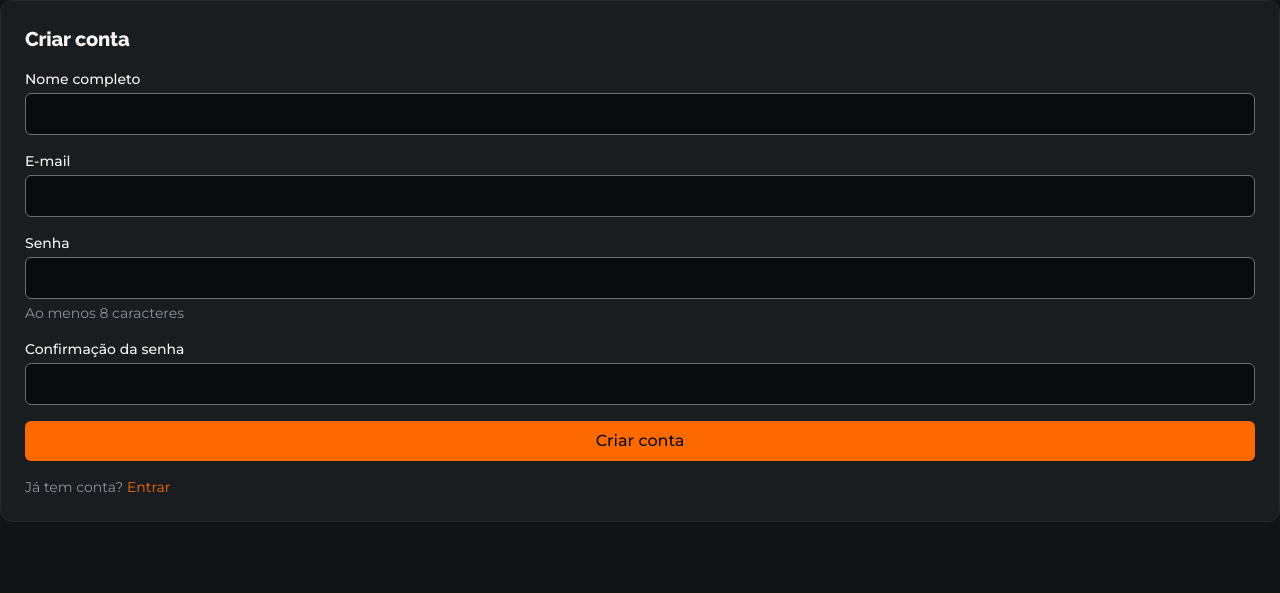
Test case: Cadastro › preserva o que foi digitado quando o serviço recusa
In the field labelled "Nome completo": (640, 114) [25,93,1255,135], type "Joana Silva"
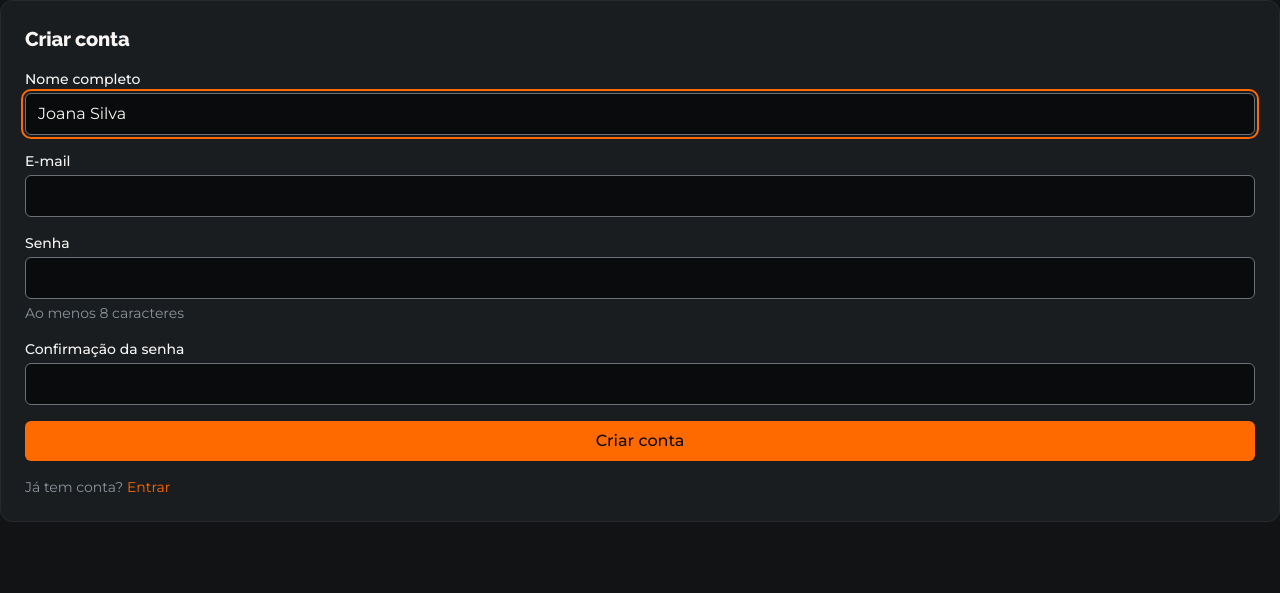
In the field labelled "E-mail": (640, 196) [25,175,1255,217], type "joana@exemplo.com"
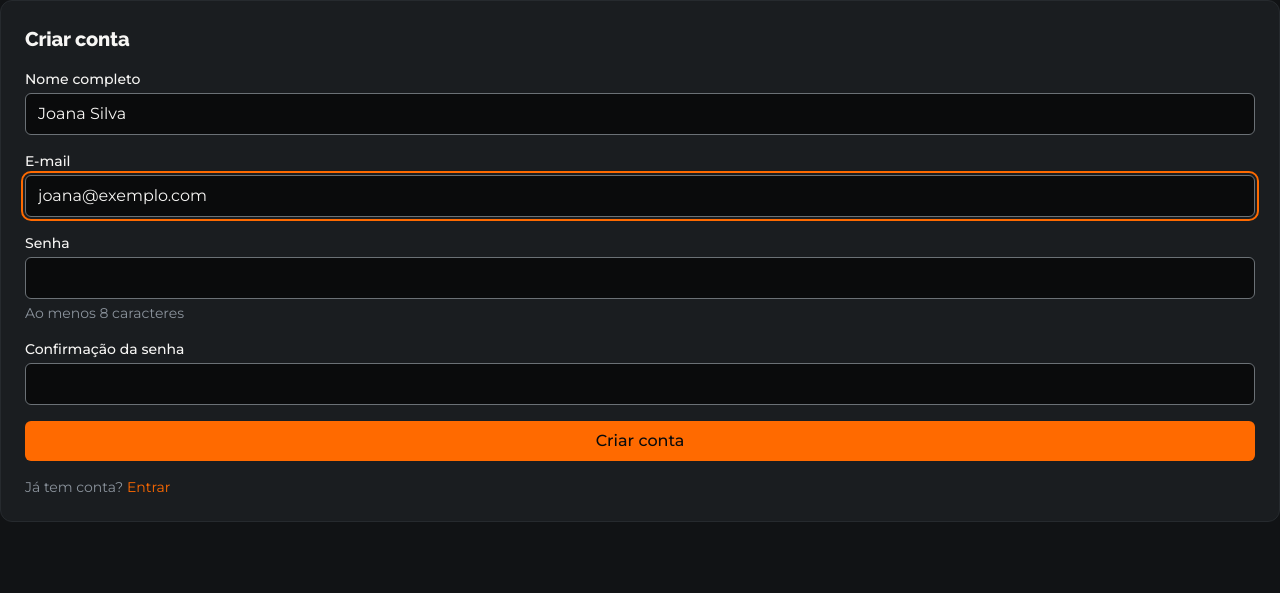
In the password field labelled "Senha": (640, 278) [25,257,1255,299], type "senha-valida-123"
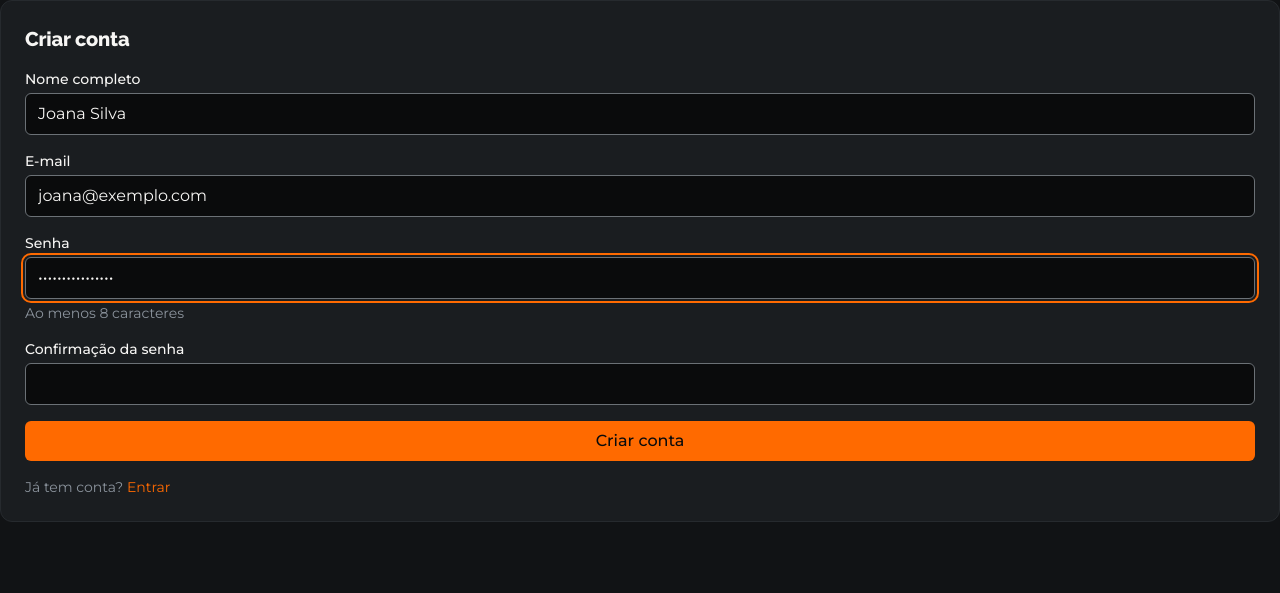
In the password field labelled "Confirmação da senha": (640, 384) [25,363,1255,405], type "senha-valida-123"
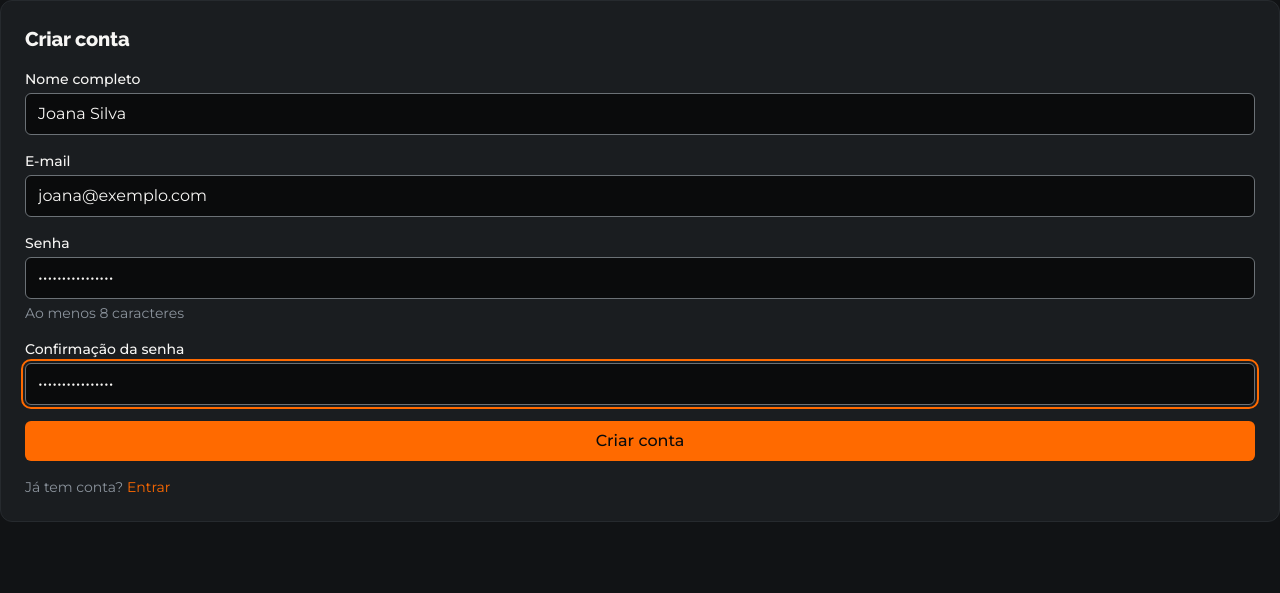
Click the button "Criar conta": (640, 441) [25,421,1255,461]
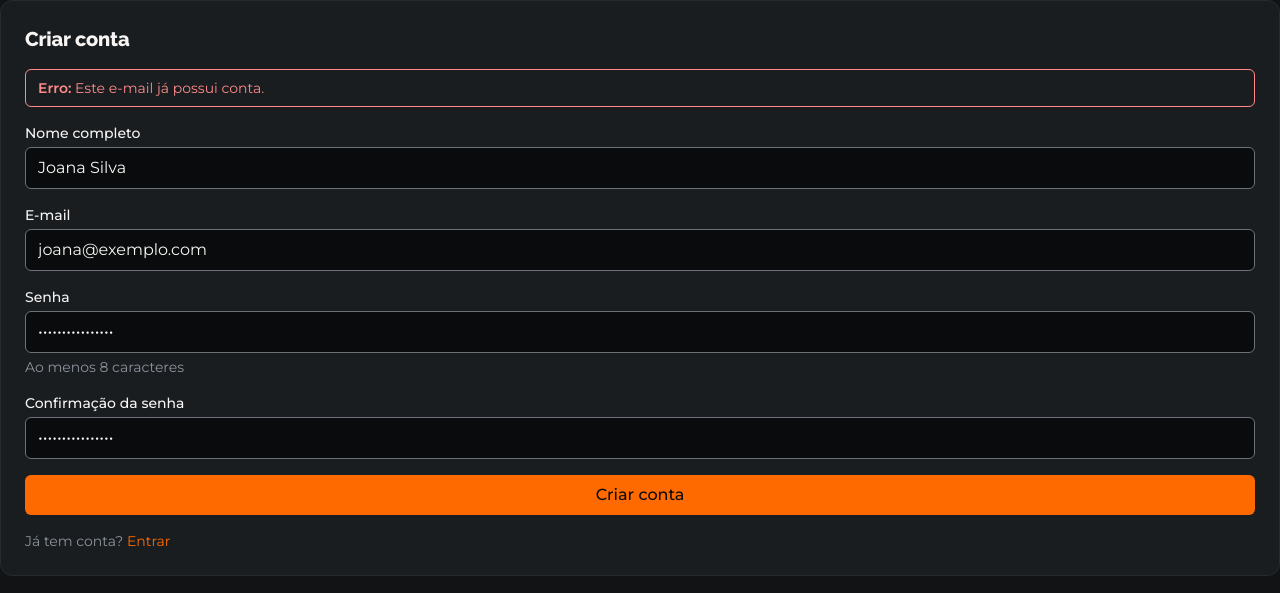
Now the message "Erro: Este e-mail já possui conta." is shown, box [25,69,1255,107]
